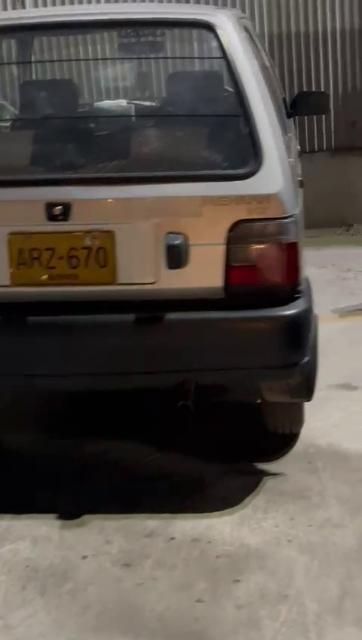plate: (10, 227, 122, 286)
